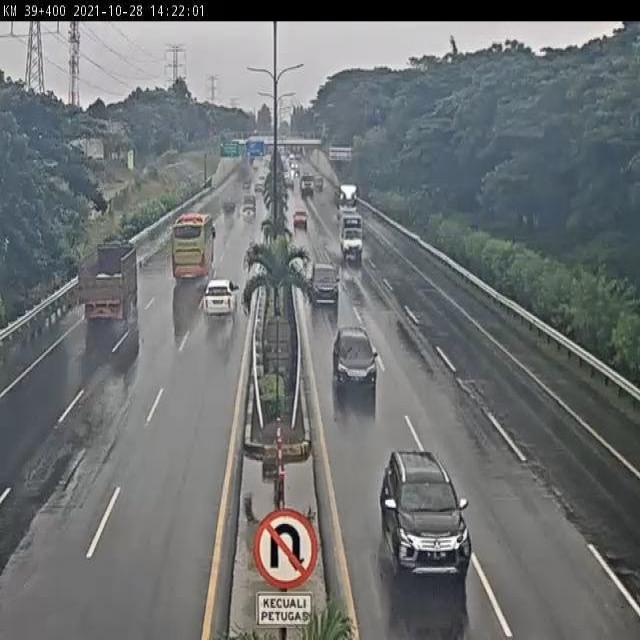big bus: (168, 212, 216, 285)
car: (377, 449, 471, 580), (332, 326, 378, 391), (198, 279, 239, 320), (307, 261, 341, 304), (292, 206, 309, 230)
truck-m-: (74, 241, 141, 331)
truck-s-: (342, 215, 365, 261)
